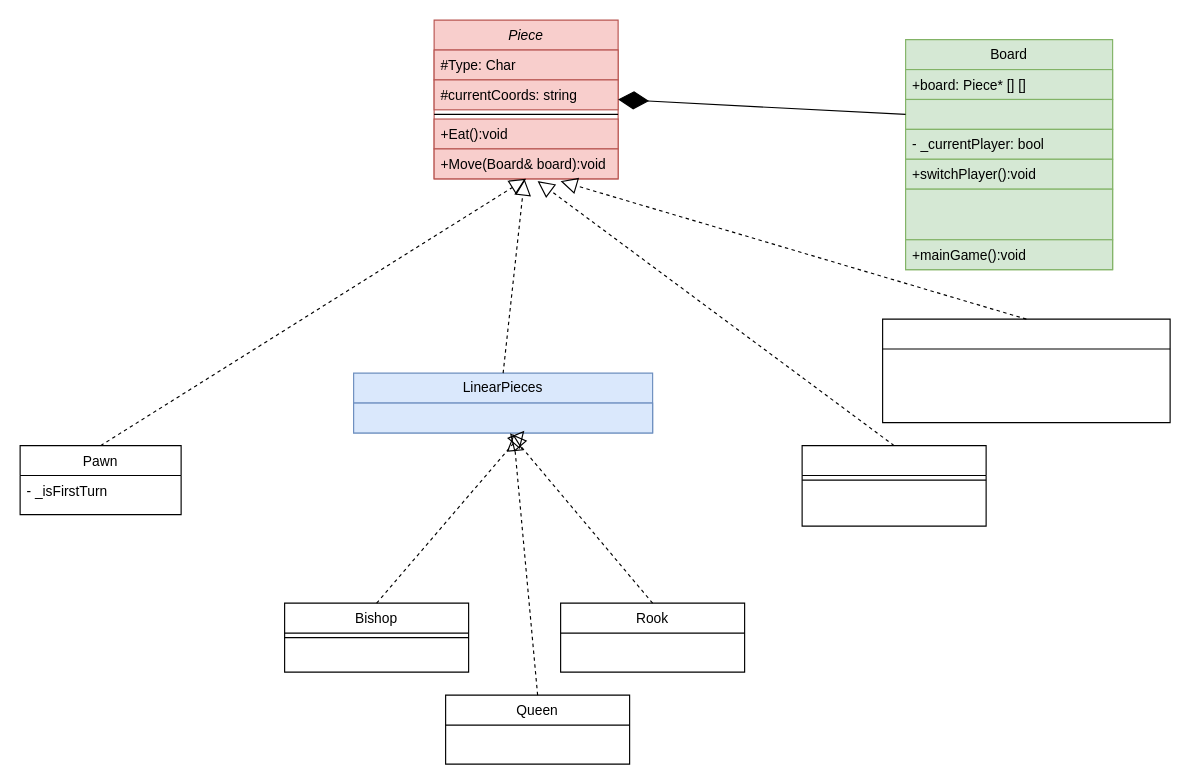
Image size: 1190x784. Some labels were removed from this diagram. The centre of each missing label's shape, as x and y in pixels:
"+isPathClear(string dst,Board& board):bool" belongs at point (502, 417).
"+lettersToCoords(string coords):string" belongs at point (1008, 214).
"- _isChecking: int" belongs at point (1008, 113).
"King" belongs at point (893, 485).
"Knight" belongs at point (1025, 370).
